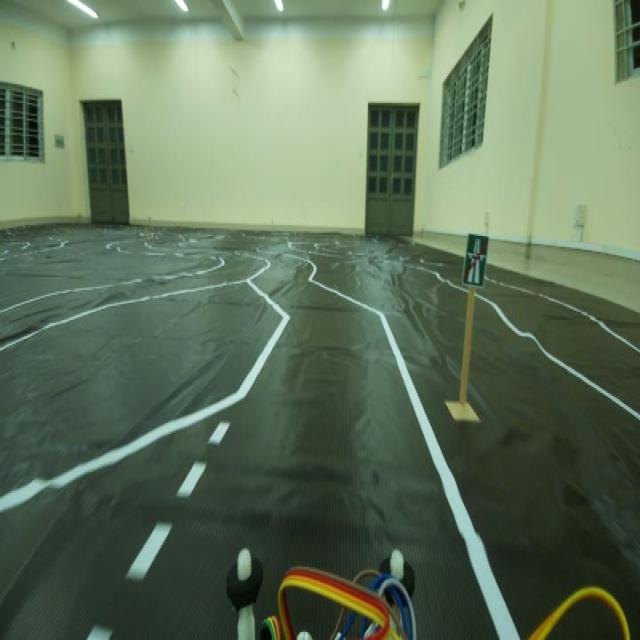highway_exit: (458, 217, 491, 299)
